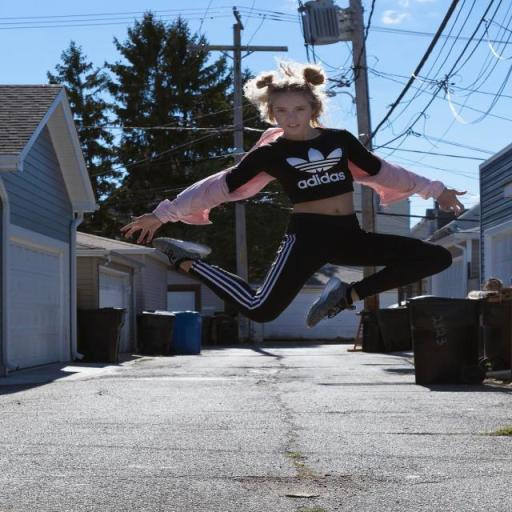Adidas: (284, 145, 348, 190)
